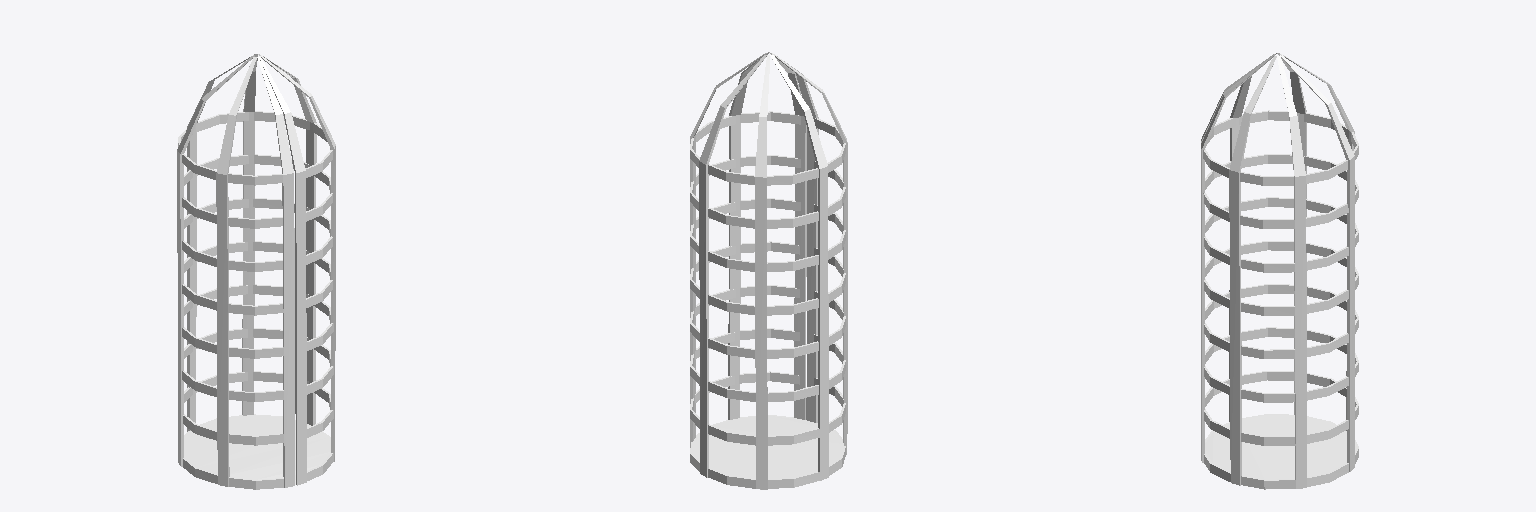
File: Floor_Cage.obj
The picture shows the model from 3 angles: view 1: azimuth 30°, elevation 25°; view 2: azimuth 150°, elevation 25°; view 3: azimuth 270°, elevation 25°; orthographic projection.
Visible parts, largest first — view 1: Floor_Cage; view 2: Floor_Cage; view 3: Floor_Cage.
Boxes of the visible parts, x1=… form: Floor_Cage: x1=177, y1=54, x2=335, y2=489; Floor_Cage: x1=690, y1=52, x2=847, y2=489; Floor_Cage: x1=1201, y1=53, x2=1358, y2=489.
Size of the model in its own units: 14.12 by 39.91 by 14.27.